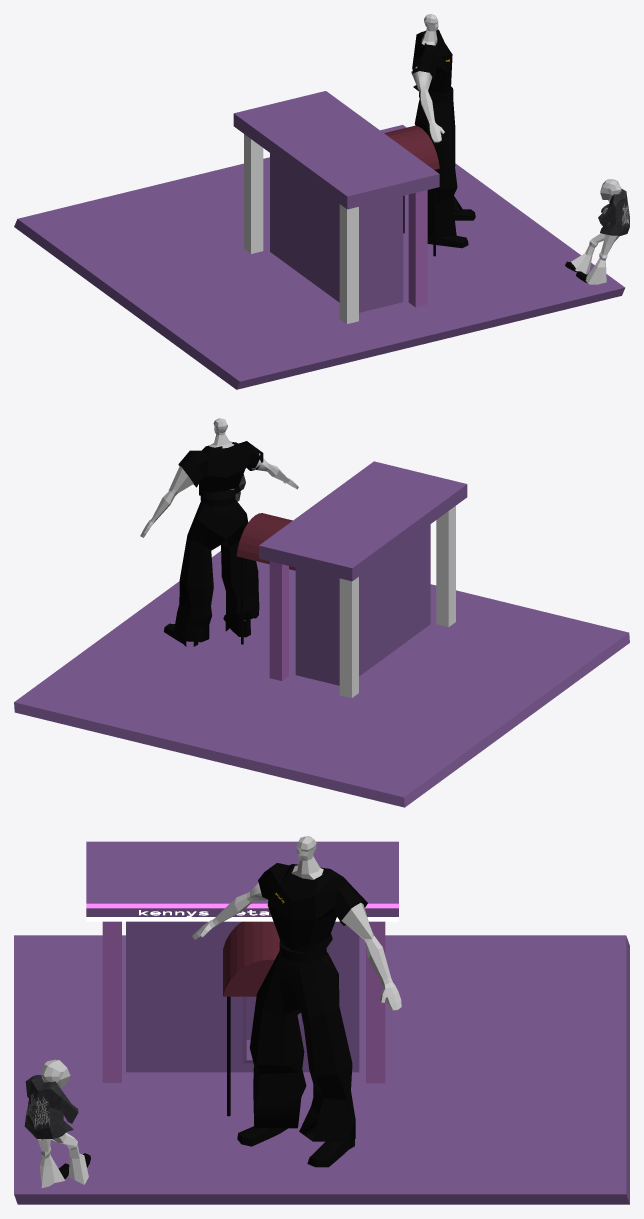
Rendered from ClubScene.fbx.
The picture shows the model from 3 angles, top to bottom: view 1: azimuth 30°, elevation 25°; view 2: azimuth 150°, elevation 25°; view 3: azimuth 270°, elevation 25°; orthographic projection. The views are drawn at different scales.
Visible parts, largest first — view 1: Plane, Cube.001, Cube, Cylinder.003, Cube.003, Cube.002, Cube.004, LowPolyHuman.005, Cylinder, Pants, Shiirt, LowPolyHuman.004; view 2: Plane, Cube.001, Cube, Cylinder.003, Cube.004, Cube.005, Cube.003, LowPolyHuman.005, Cylinder; view 3: Plane, Cylinder.003, Cube, Cube.001, LowPolyHuman.005, Cylinder, Cube.002, Cube.005, Shiirt, Pants, LowPolyHuman.004, Cube.010 (+2 smaller).
Part boxes in pixels (x1=…): Plane: x1=14, y1=125, x2=625, y2=389; Cube.001: x1=233, y1=91, x2=439, y2=206; Cube: x1=270, y1=153, x2=403, y2=312; Cylinder.003: x1=412, y1=29, x2=462, y2=237; Cube.003: x1=339, y1=204, x2=358, y2=323; Cube.002: x1=408, y1=190, x2=427, y2=307; Cube.004: x1=244, y1=134, x2=263, y2=253; LowPolyHuman.005: x1=411, y1=14, x2=444, y2=142; Cylinder: x1=384, y1=125, x2=439, y2=169; Pants: x1=571, y1=233, x2=619, y2=284; Shiirt: x1=598, y1=189, x2=629, y2=235; LowPolyHuman.004: x1=427, y1=209, x2=475, y2=248; Plane: x1=14, y1=551, x2=629, y2=807; Cube.001: x1=259, y1=461, x2=467, y2=581; Cube: x1=295, y1=524, x2=430, y2=685; Cylinder.003: x1=174, y1=441, x2=263, y2=642; Cube.004: x1=339, y1=577, x2=358, y2=698; Cube.005: x1=269, y1=561, x2=288, y2=680; Cube.003: x1=436, y1=506, x2=455, y2=627; LowPolyHuman.005: x1=140, y1=418, x2=298, y2=537; Cylinder: x1=236, y1=513, x2=295, y2=570; Plane: x1=14, y1=935, x2=629, y2=1204; Cylinder.003: x1=249, y1=863, x2=367, y2=1141; Cube: x1=126, y1=921, x2=359, y2=1072; Cube.001: x1=86, y1=841, x2=398, y2=916; LowPolyHuman.005: x1=192, y1=836, x2=401, y2=1010; Cylinder: x1=223, y1=921, x2=279, y2=996; Cube.002: x1=102, y1=921, x2=121, y2=1082; Cube.005: x1=366, y1=921, x2=385, y2=1083; Shiirt: x1=24, y1=1075, x2=78, y2=1138; Pants: x1=38, y1=1132, x2=88, y2=1187; LowPolyHuman.004: x1=237, y1=1126, x2=354, y2=1167; Cube.010: x1=86, y1=903, x2=398, y2=908.
Size of the model in its own units: 2309 by 1225 by 2205.
